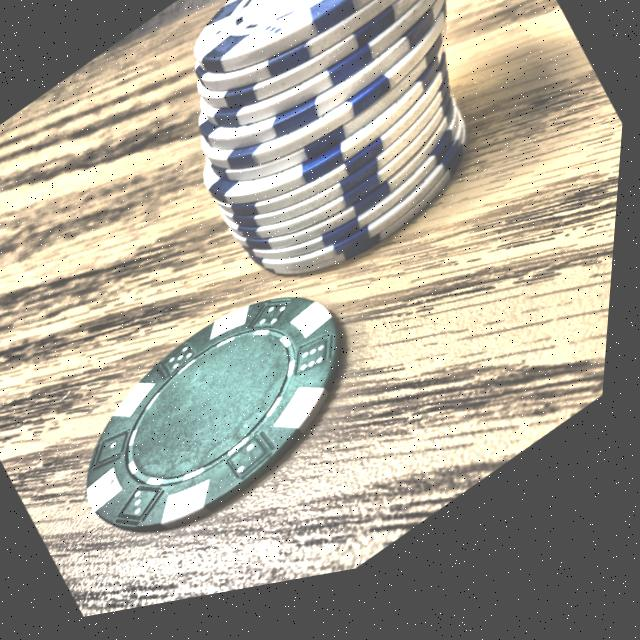Chip: (84, 0, 606, 398), (37, 230, 418, 606)
